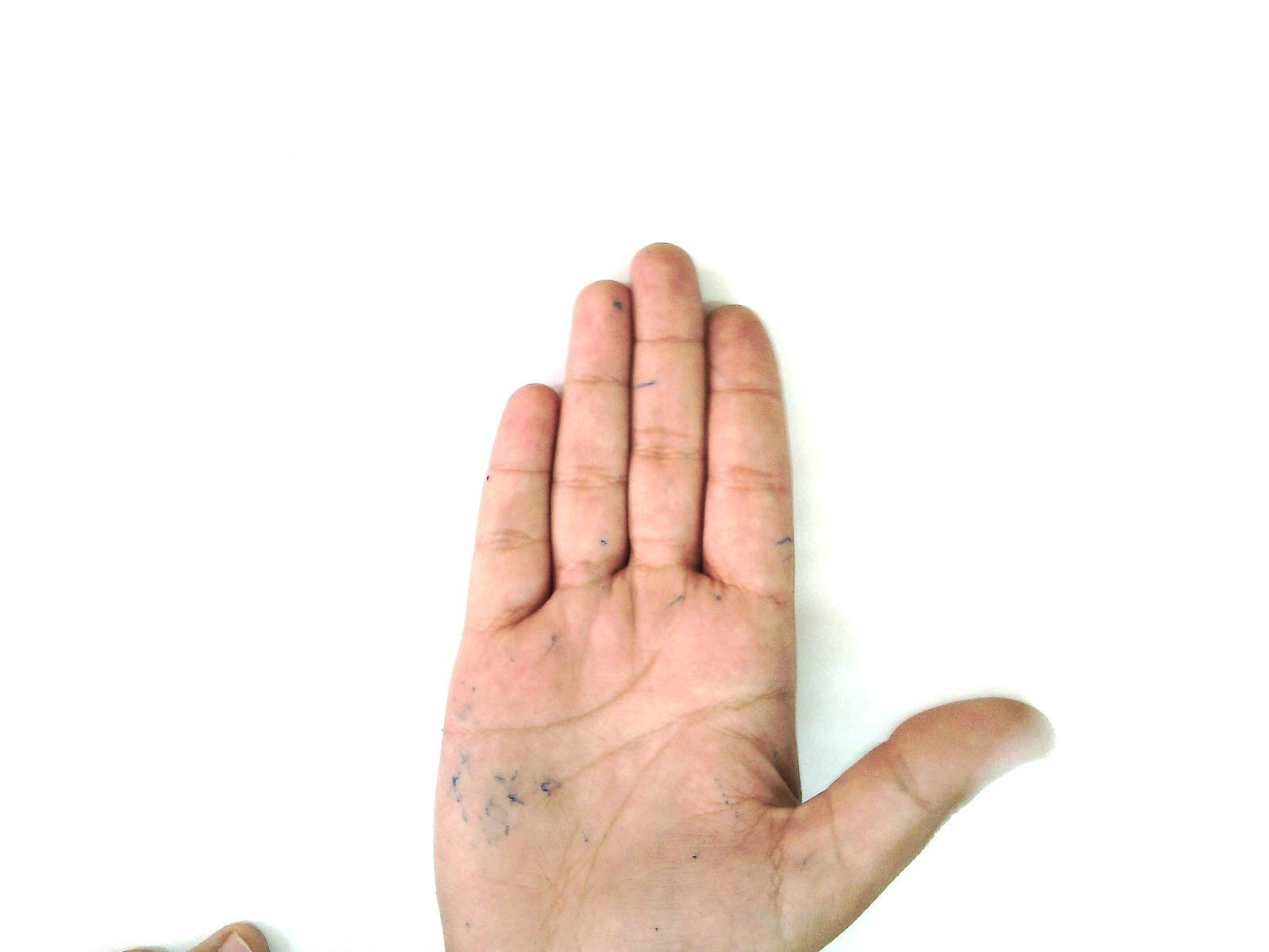open_palm: (426, 241, 1056, 950)
